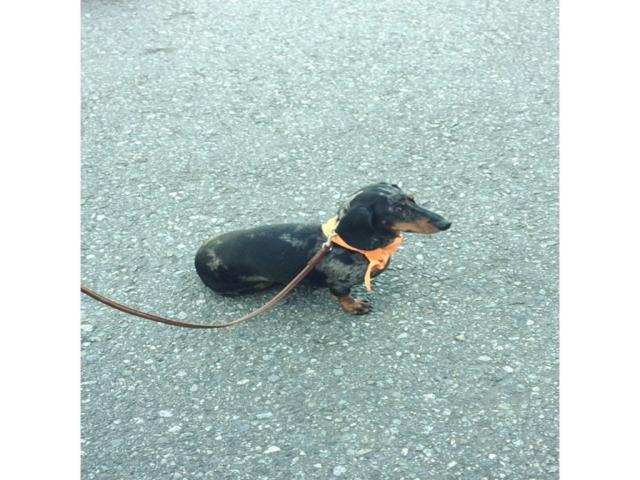Dog: (194, 182, 455, 314)
